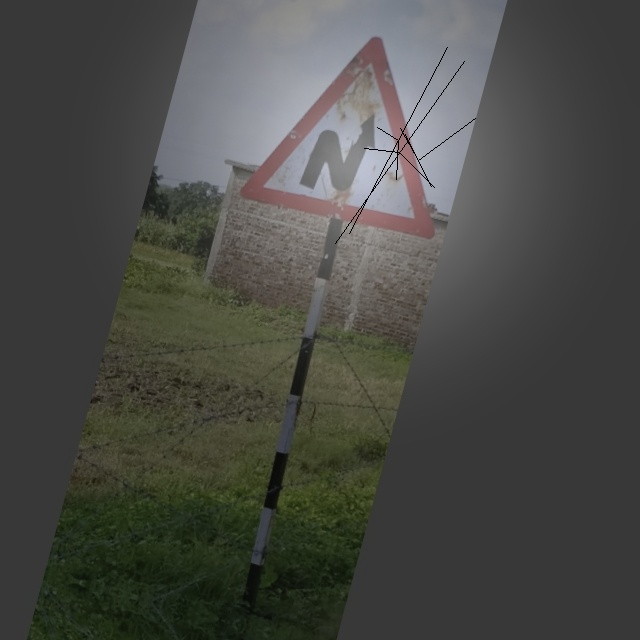Right_Reverse_Bend: (243, 13, 480, 245)
